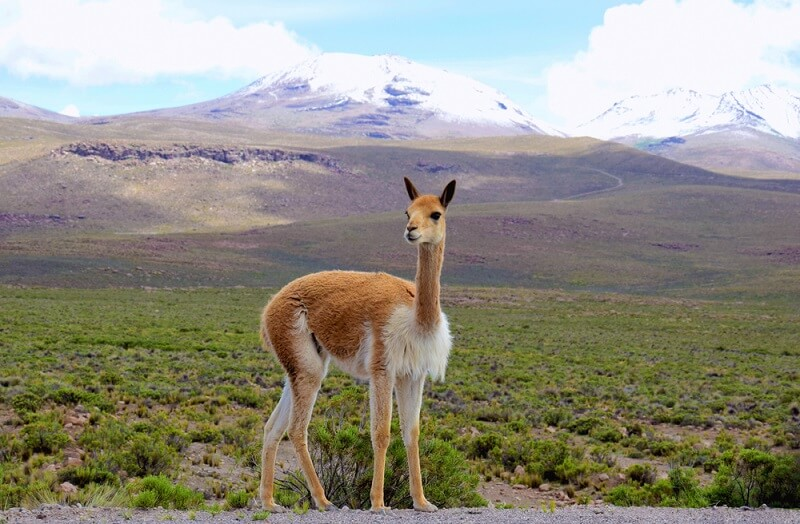eye: (431, 208, 446, 226)
mouth: (404, 226, 424, 244)
